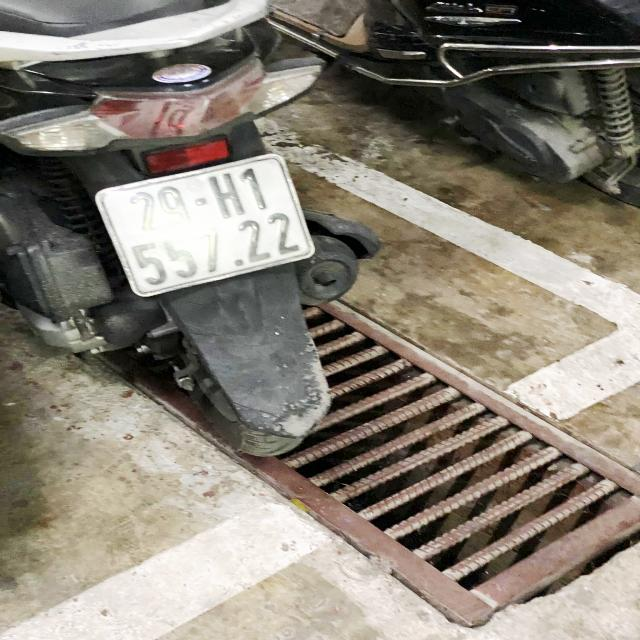license_plate: (83, 147, 326, 306)
